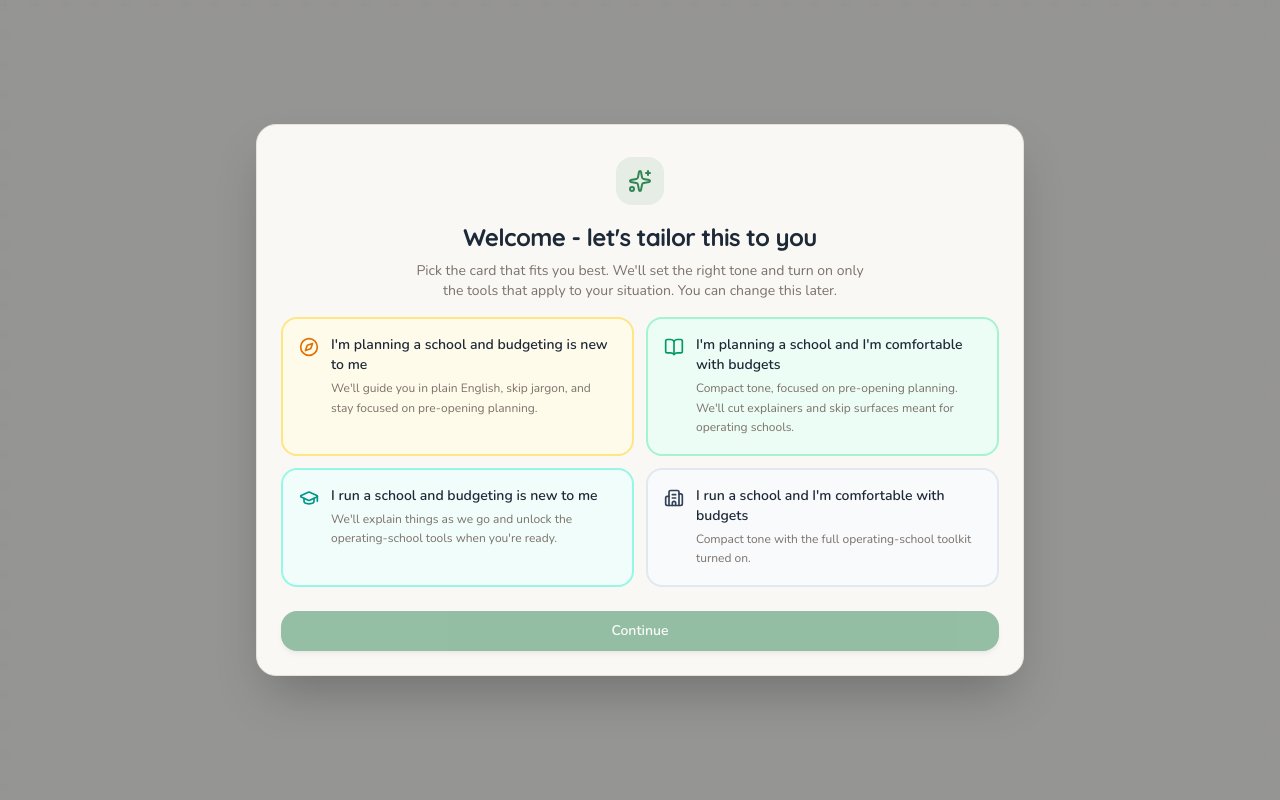
FounderPersonaPrompt — picker + persistence › surfaces an error message when the PATCH fails
Click the button with test id "persona-bucket-yet_to_launch-new_to_budgeting".
click(458, 387)  # box [281,317,634,456]
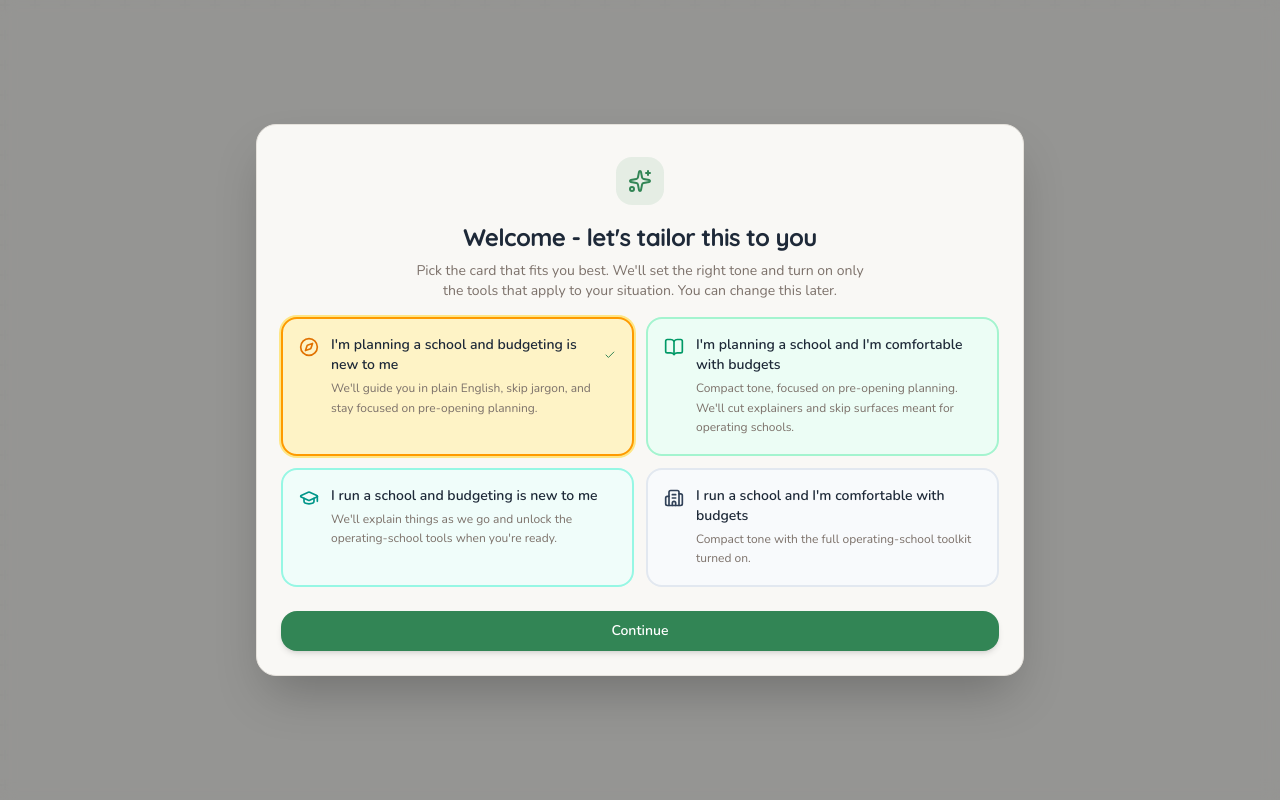
Click the button with test id "persona-prompt-submit".
click(640, 631)  # box [281,611,999,651]
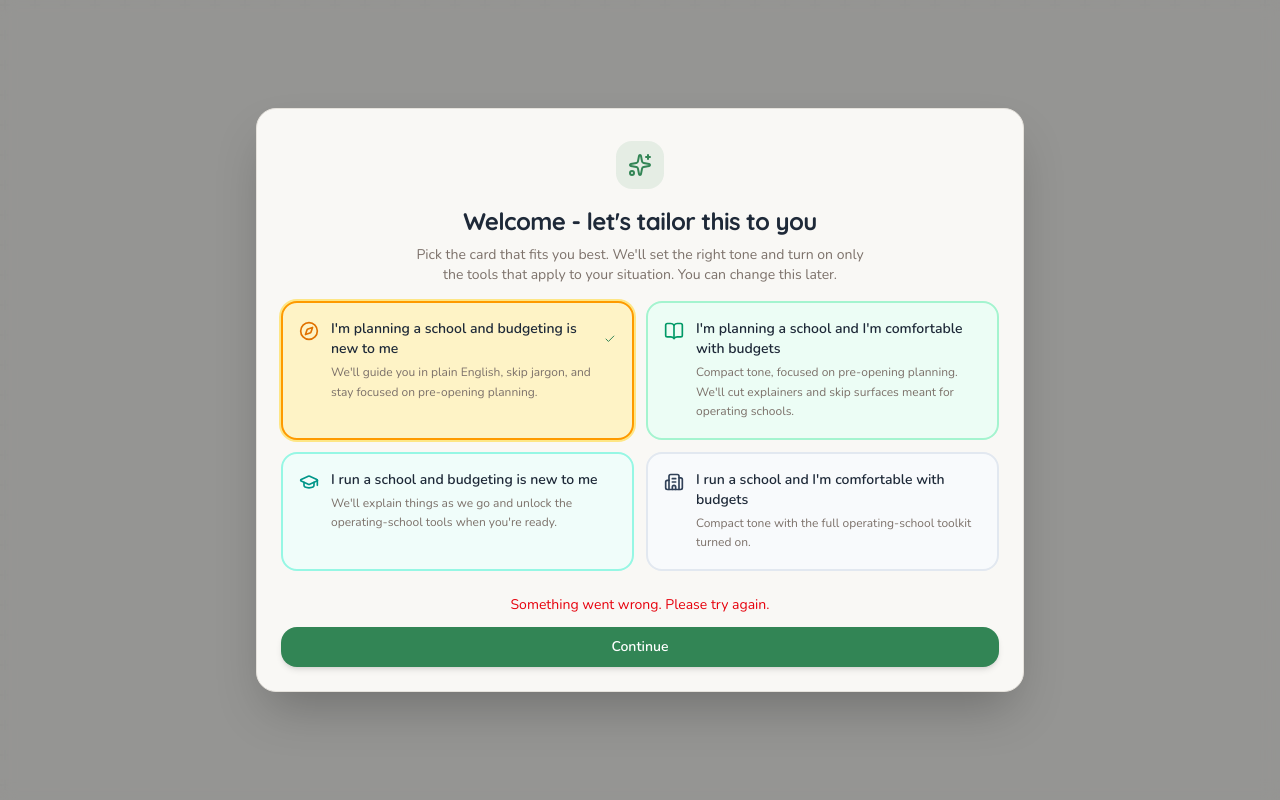
Now the message "Something went wrong. Please try again." is shown, box [510,595,770,614]
